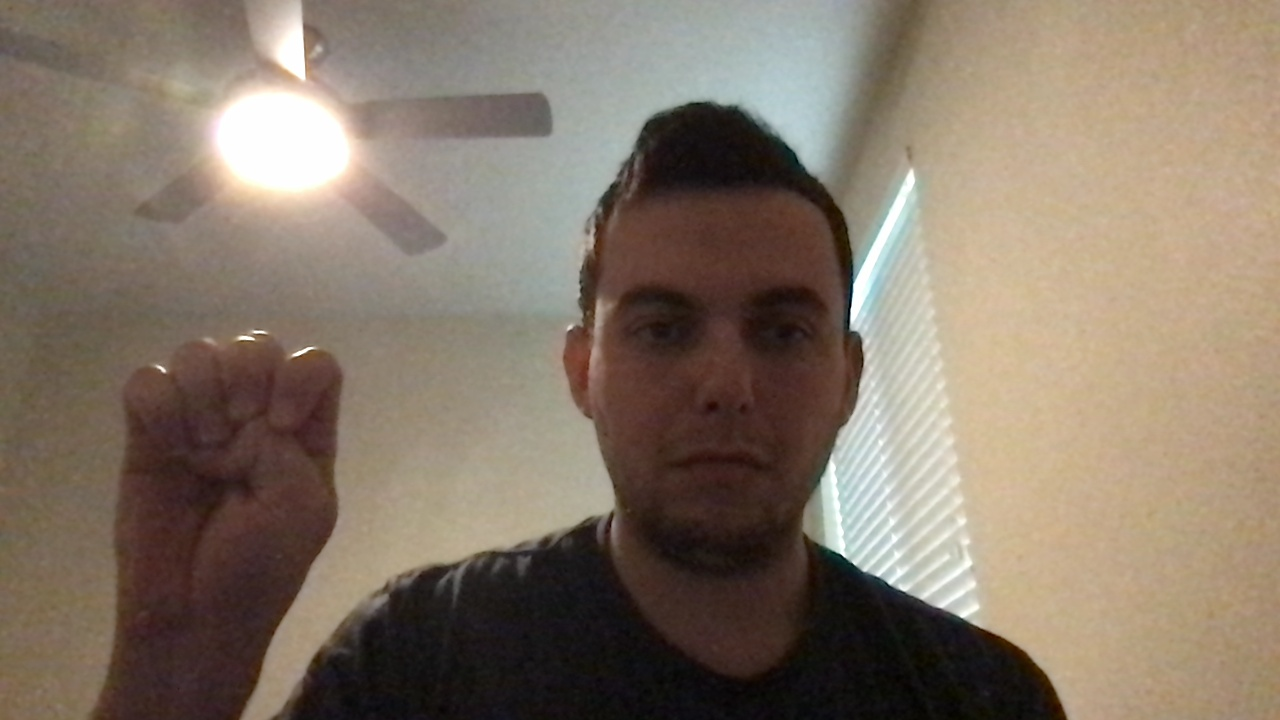e: (92, 321, 354, 620)
